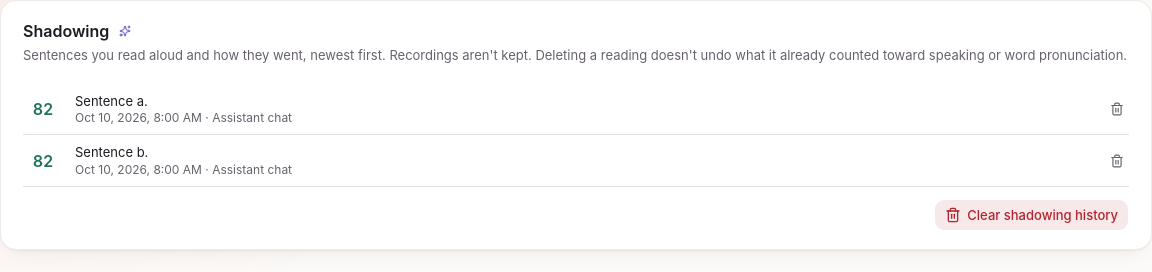
Scenario: ShadowingHistory › deletes one reading after asking
The image size is (1152, 272).
Click the button named "Delete this reading" in the row of "Sentence a." at (1117, 109), box left=1105, top=97, right=1129, bottom=121
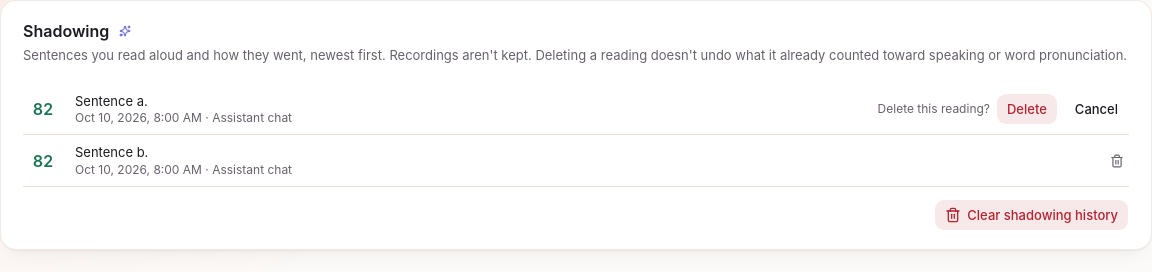
Click the button "Delete" at (1027, 109), box left=996, top=93, right=1058, bottom=125
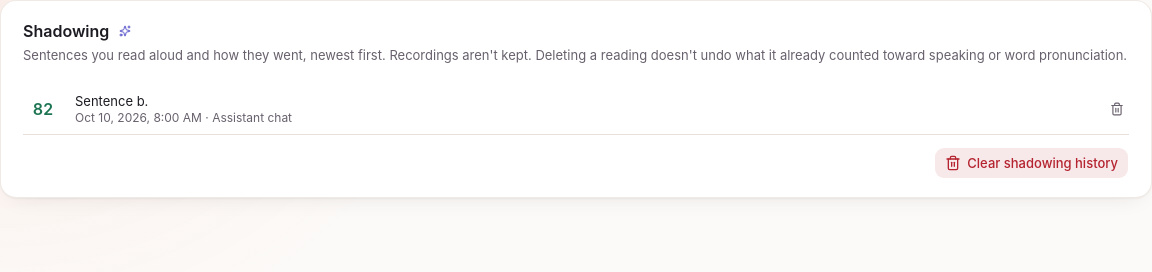
Now the number of list items with test id "shadowing-item" is 1, box left=23, top=84, right=1129, bottom=134
